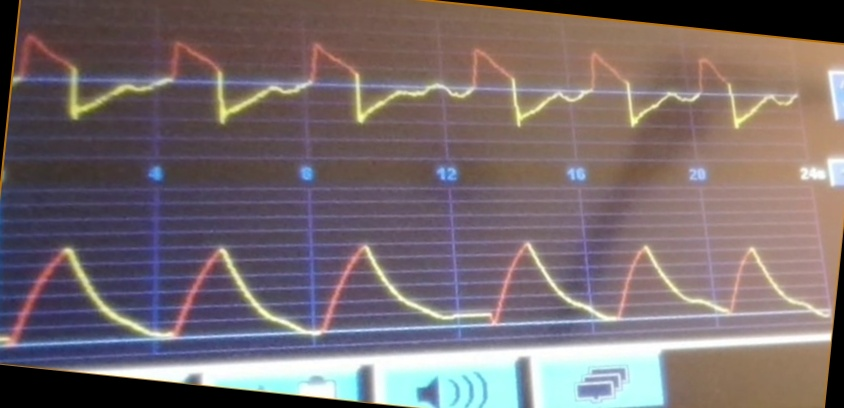Ineffective_effort Flow: (18, 29, 798, 151)
Ineffective_effort Volume: (9, 223, 824, 343)
